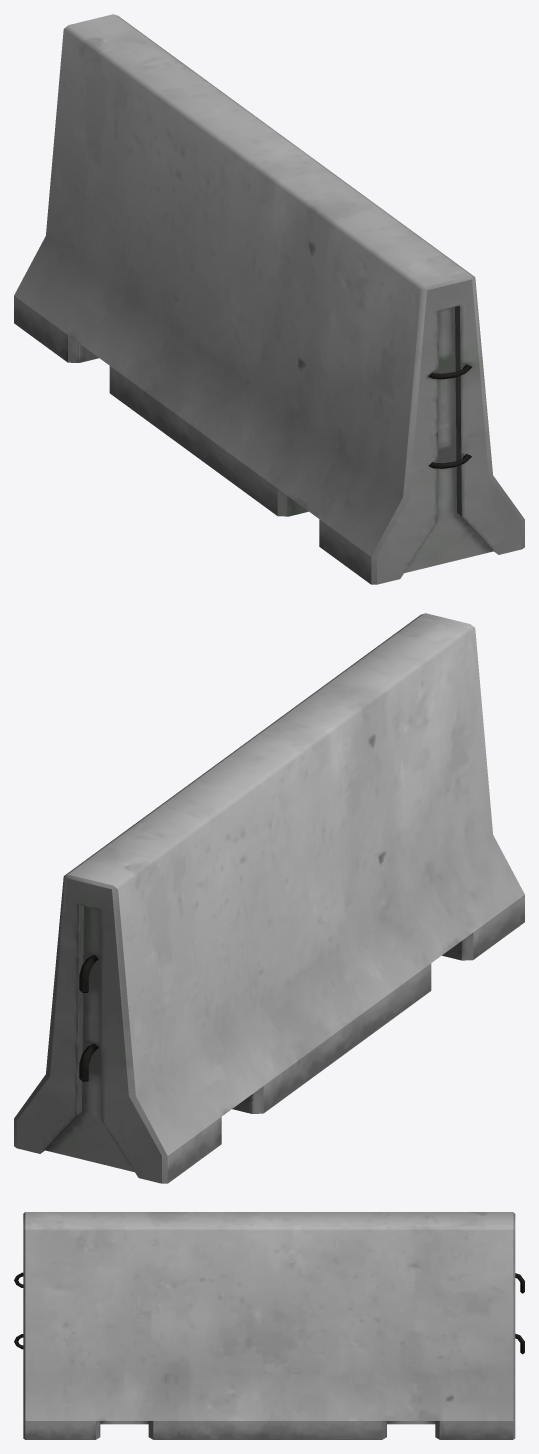
3 renders of one model, top to bottom at view 1: azimuth 30°, elevation 25°; view 2: azimuth 150°, elevation 25°; view 3: azimuth 270°, elevation 25°, orthographic. The views are drawn at different scales.
Parts seen in each view (by area): view 1: body0_model0_lod0_mesh0; view 2: body0_model0_lod0_mesh0; view 3: body0_model0_lod0_mesh0.
Boxes of the visible parts, box(x1,y1,x2,y2) form: body0_model0_lod0_mesh0: box(14, 14, 524, 584); body0_model0_lod0_mesh0: box(14, 613, 524, 1183); body0_model0_lod0_mesh0: box(14, 1212, 524, 1439).
Size of the model in its own units: 31.06 by 54.96 by 131.
1 material, 1 textured.
